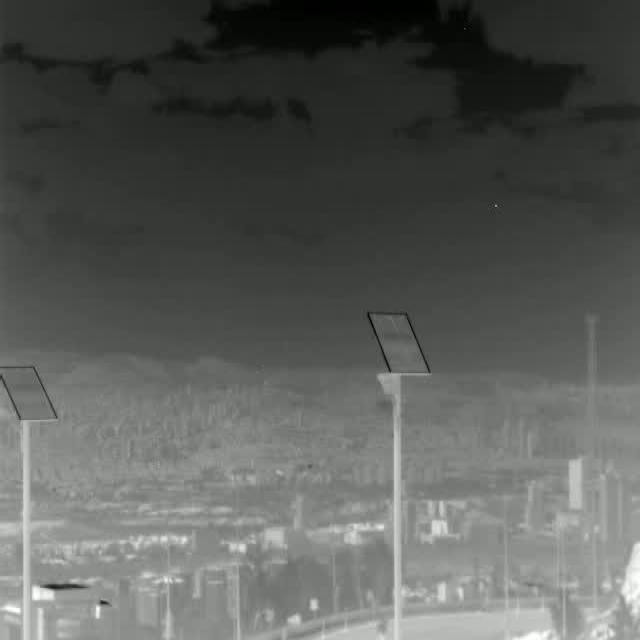Motorcycle: (374, 616, 388, 640)
